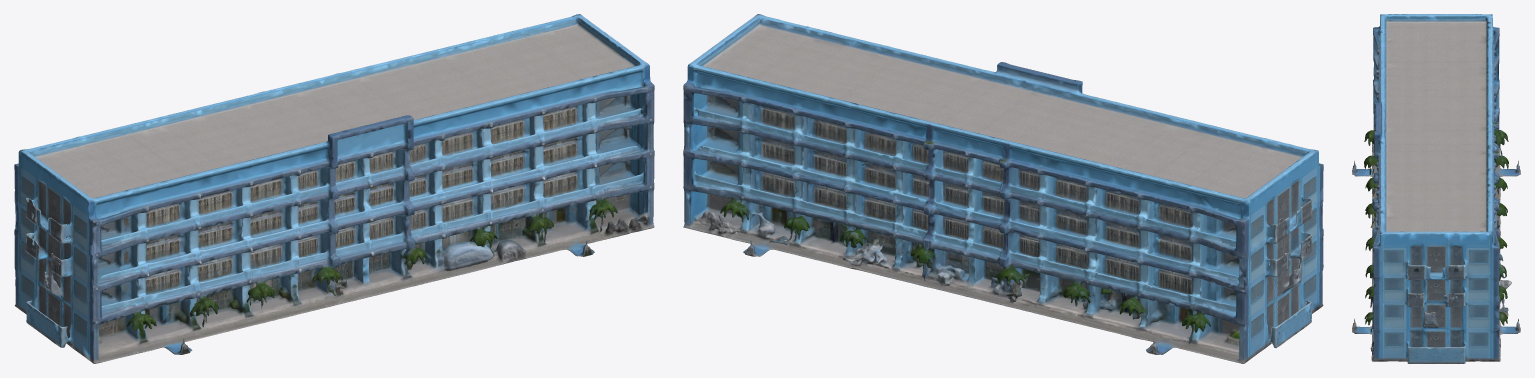
The model's file is ccs-building.glb.
The picture shows the model from 3 angles, left to right: view 1: azimuth 30°, elevation 25°; view 2: azimuth 150°, elevation 25°; view 3: azimuth 270°, elevation 25°; orthographic projection. The views are drawn at different scales.
Visible parts, largest first — view 1: Meshy_AI_Blue_Academic_Hall_0909060650_texture; view 2: Meshy_AI_Blue_Academic_Hall_0909060650_texture; view 3: Meshy_AI_Blue_Academic_Hall_0909060650_texture.
Part boxes in pixels (bbox=[...]): Meshy_AI_Blue_Academic_Hall_0909060650_texture: bbox=[14, 14, 654, 363]; Meshy_AI_Blue_Academic_Hall_0909060650_texture: bbox=[683, 14, 1323, 363]; Meshy_AI_Blue_Academic_Hall_0909060650_texture: bbox=[1352, 14, 1520, 363].
Size of the model in its own units: 1.9 by 0.5214 by 0.5926.
Materials: 1 (1 with a texture image).
